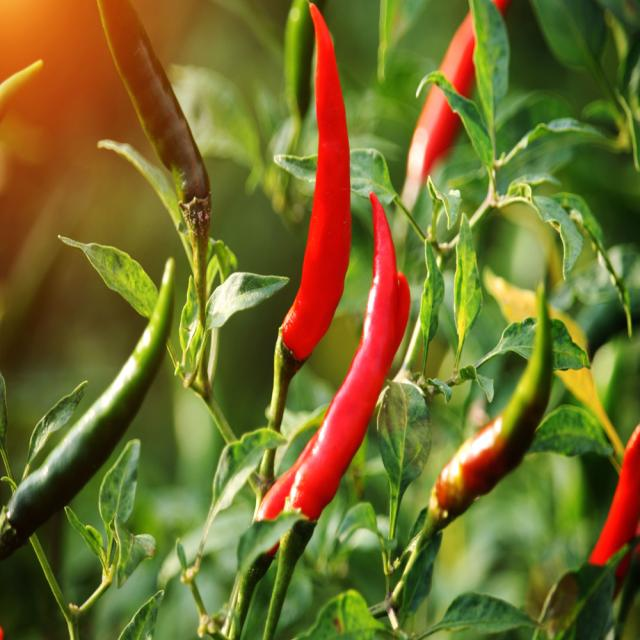Ripe: (259, 193, 414, 520), (281, 4, 351, 360), (589, 424, 640, 565)
Ripe-Unripe: (418, 285, 552, 547)
Unripe: (0, 259, 174, 559), (98, 0, 210, 201)
